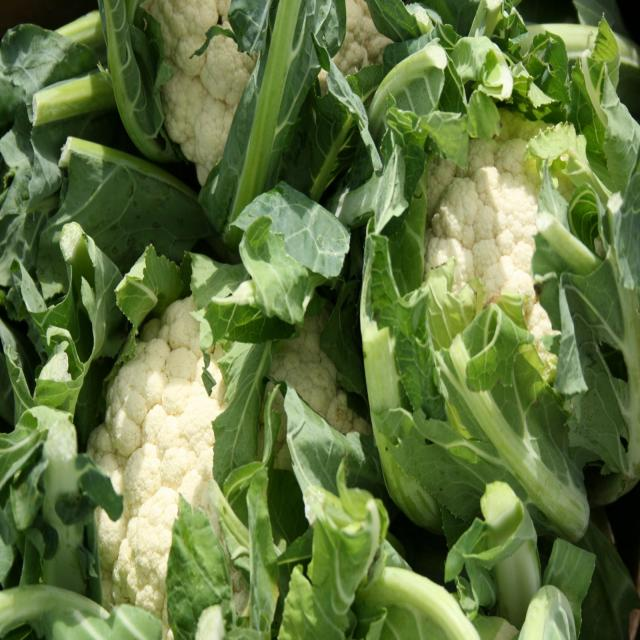Cauliflower head: (391, 31, 640, 557), (98, 242, 394, 640), (123, 0, 381, 206)
